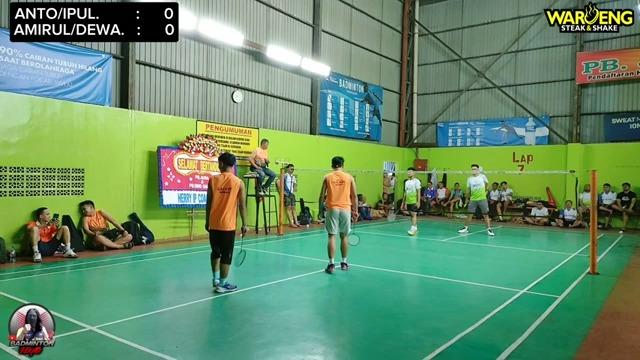Shuttlecock: (314, 216, 326, 222)
